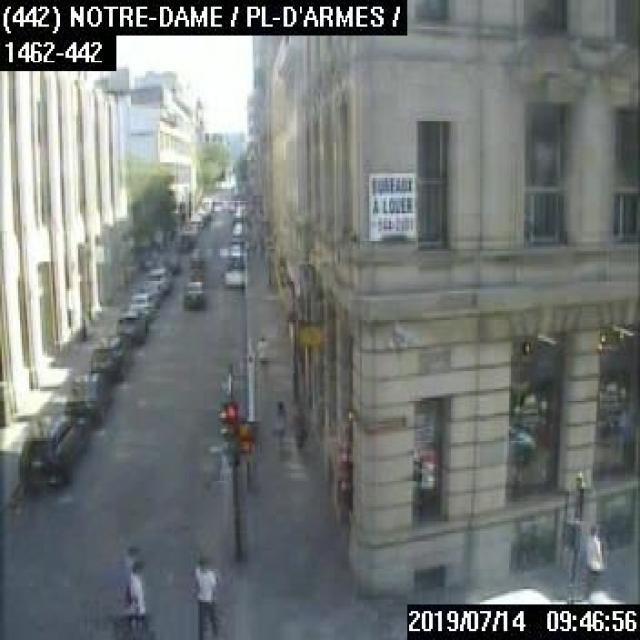pedestrian: (189, 553, 218, 638), (578, 518, 604, 593), (124, 559, 147, 638), (269, 396, 286, 458), (256, 335, 268, 369)
vehicle: (13, 413, 84, 489), (62, 372, 110, 424), (86, 328, 130, 379), (115, 308, 148, 346), (126, 289, 158, 323), (180, 277, 207, 307), (144, 266, 170, 294), (220, 261, 245, 284), (225, 240, 246, 263), (188, 260, 205, 277)
